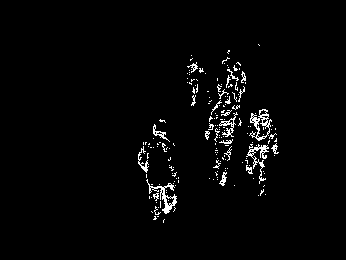person: (137, 116, 181, 223), (203, 91, 242, 188), (247, 108, 280, 199), (185, 53, 212, 107), (227, 61, 247, 106)
